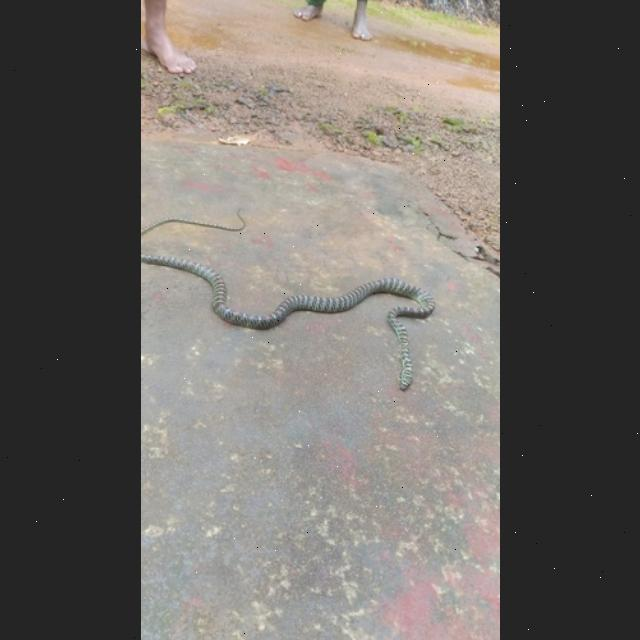snake: (140, 208, 454, 398)
